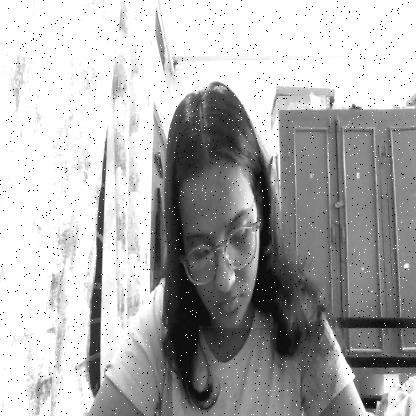Normal: (163, 85, 274, 328)
